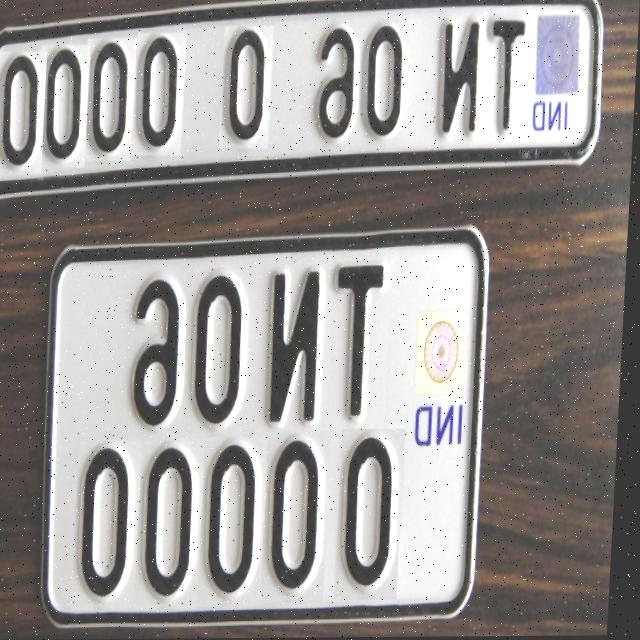plate: (39, 223, 497, 629), (0, 0, 608, 198)
